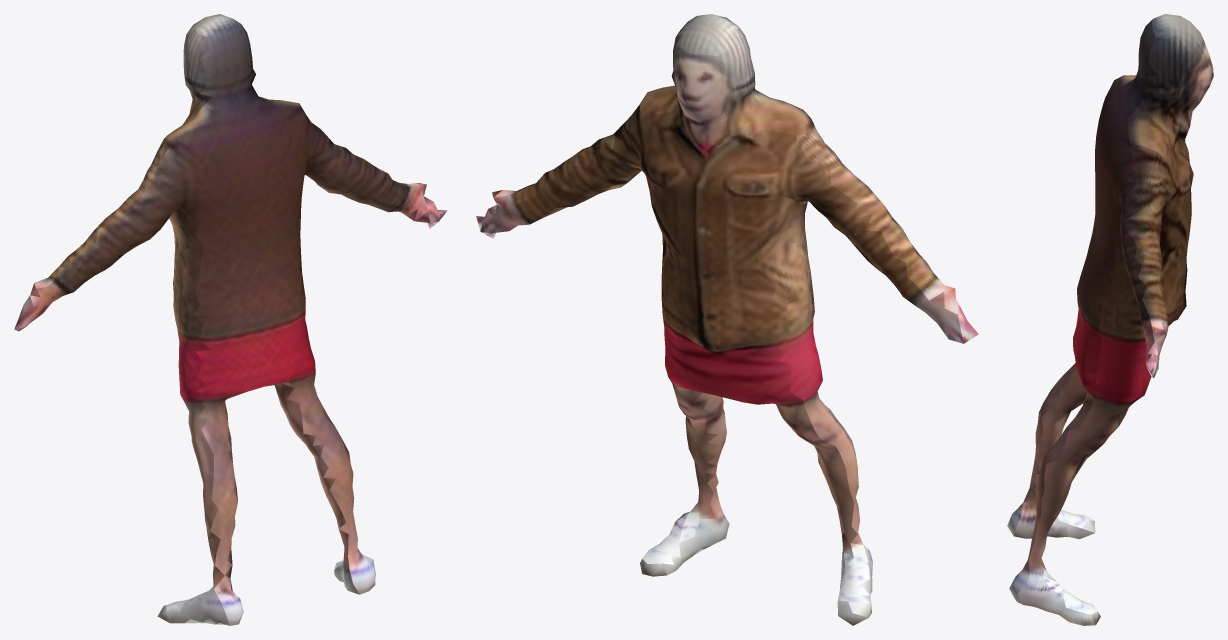
3 views of the same model, side by side, from view 1: azimuth 30°, elevation 25°; view 2: azimuth 150°, elevation 25°; view 3: azimuth 270°, elevation 25° (orthographic). The views are drawn at different scales.
Visible parts, largest first — view 1: world; view 2: world; view 3: world.
Part boxes in pixels (x1,y1,x2,y2): world: (14, 14, 447, 625); world: (476, 14, 978, 625); world: (1007, 14, 1213, 625).
Size of the model in its own units: 0.8173 by 0.9763 by 0.3249.
Materials: 1 (1 with a texture image).
